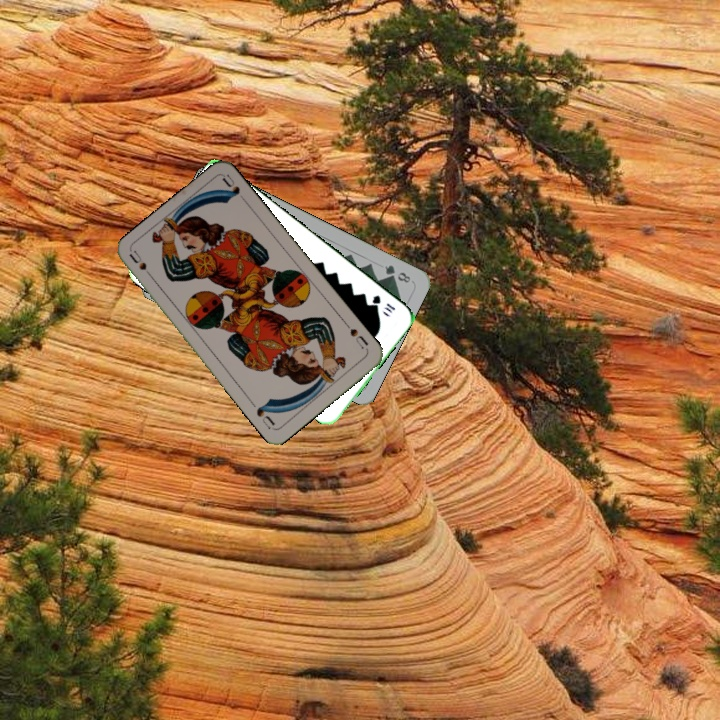G10: (368, 291, 398, 316)
G8: (380, 261, 413, 285)
SU: (126, 247, 158, 284), (341, 319, 371, 353)
